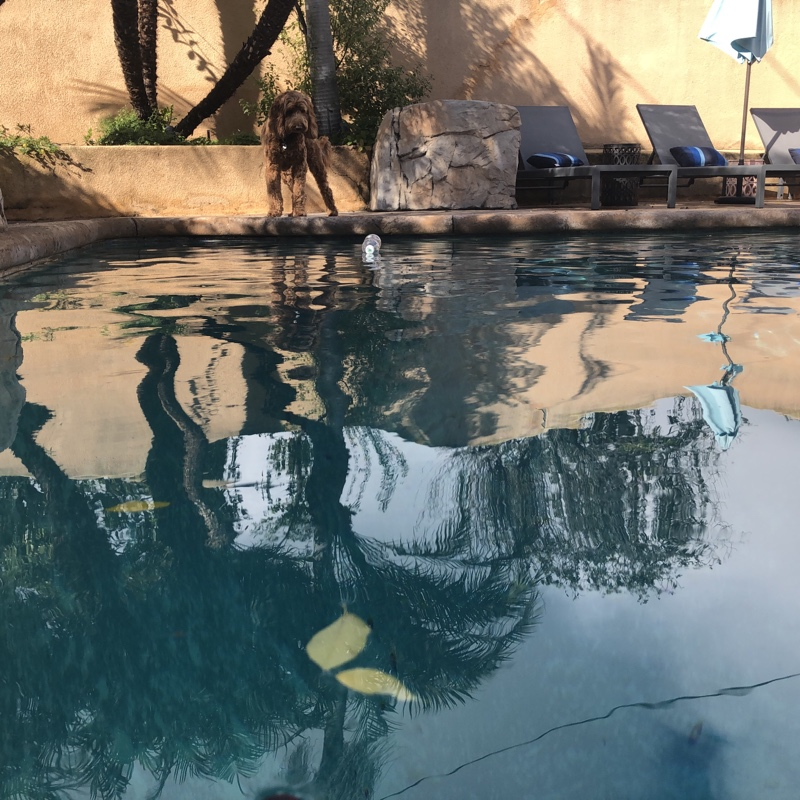Plastic Bottle: (361, 233, 383, 254)
